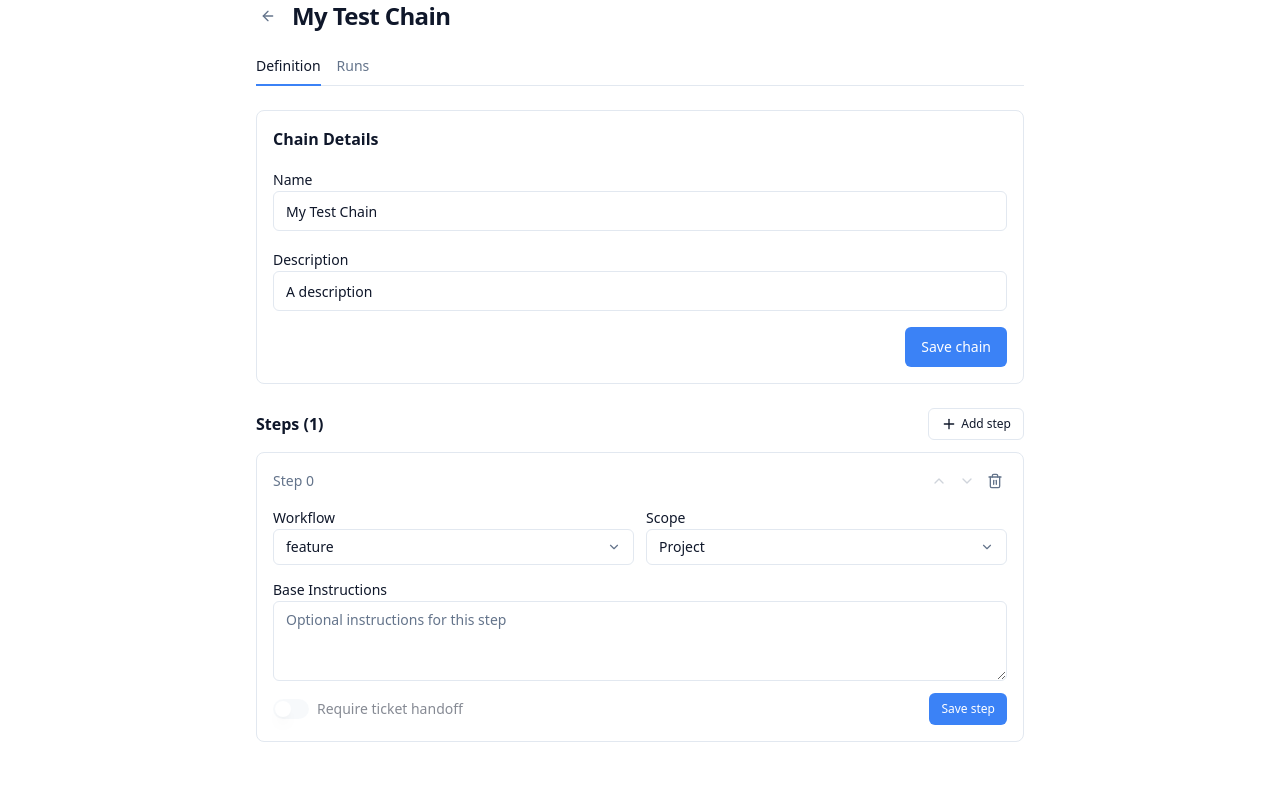
Test: WorkflowChainEditorPage - Add / Delete Steps › clicking Delete step button opens confirm dialog
The width and height of the screenshot is (1280, 800).
Click the button titled "Delete step": (995, 481) top-left (983, 469), bottom-right (1007, 493)
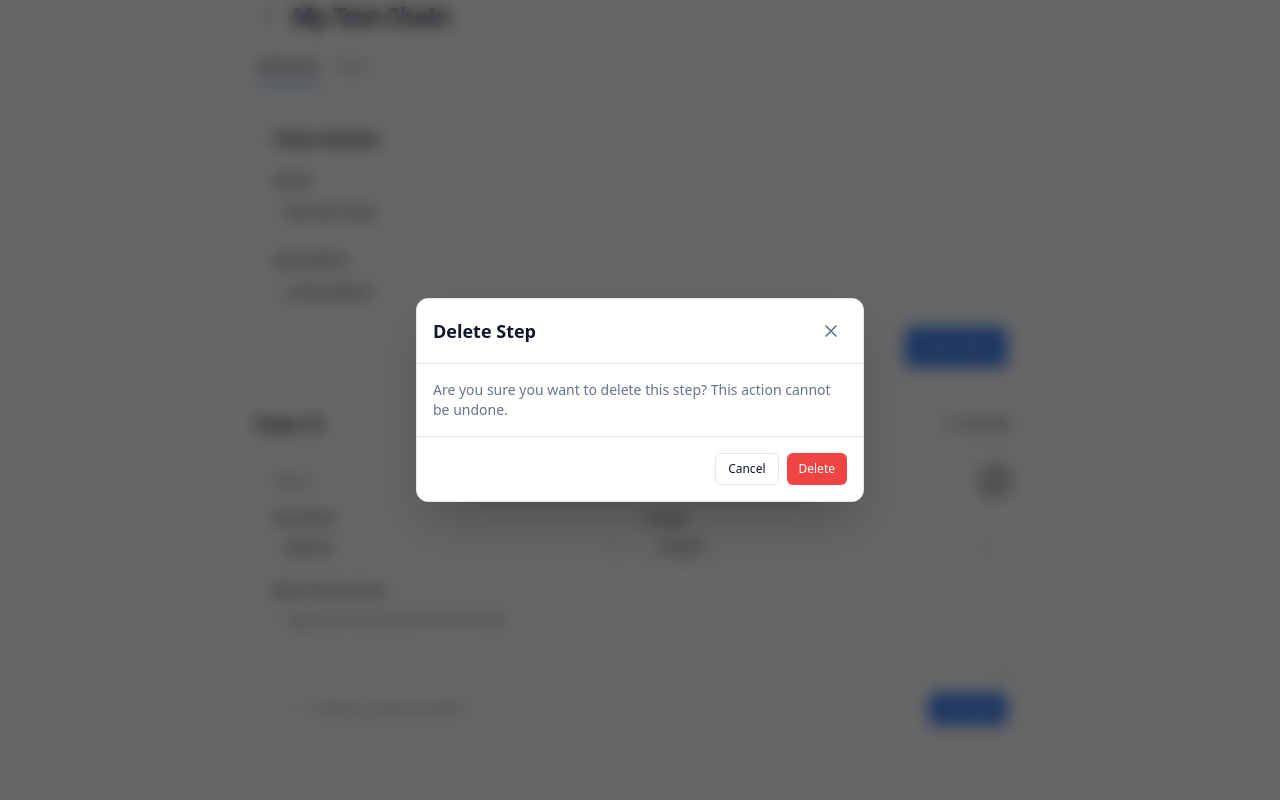
Now the heading "Delete Step" is shown, box top-left (433, 319), bottom-right (536, 343)
Now the text "Are you sure you want to delete this step" is shown, box top-left (433, 380), bottom-right (831, 419)
